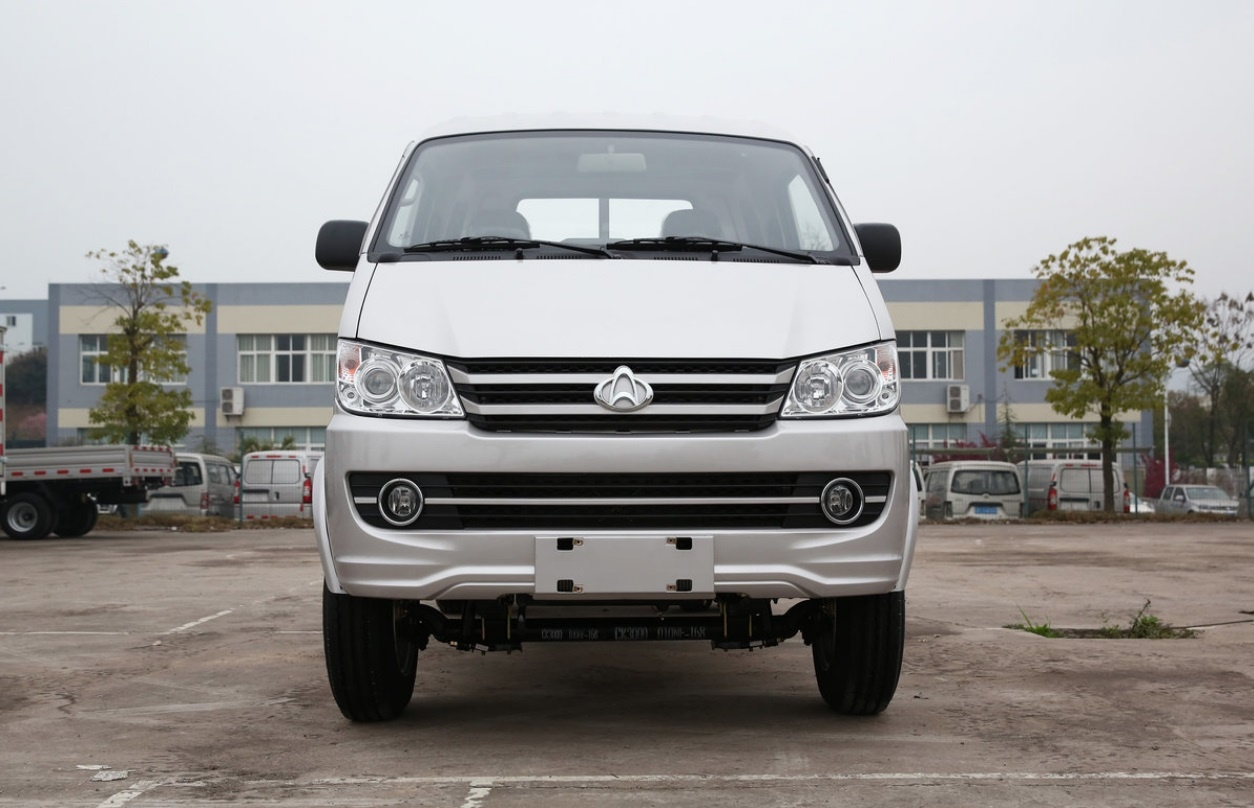minibus: (301, 95, 920, 733)
